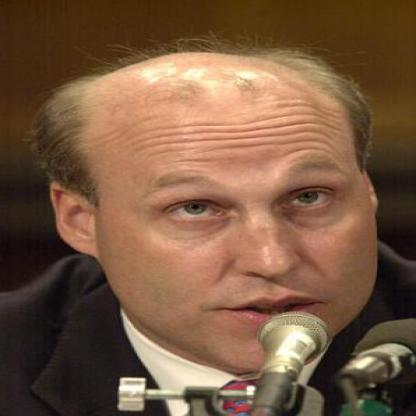face: (90, 51, 380, 375)
